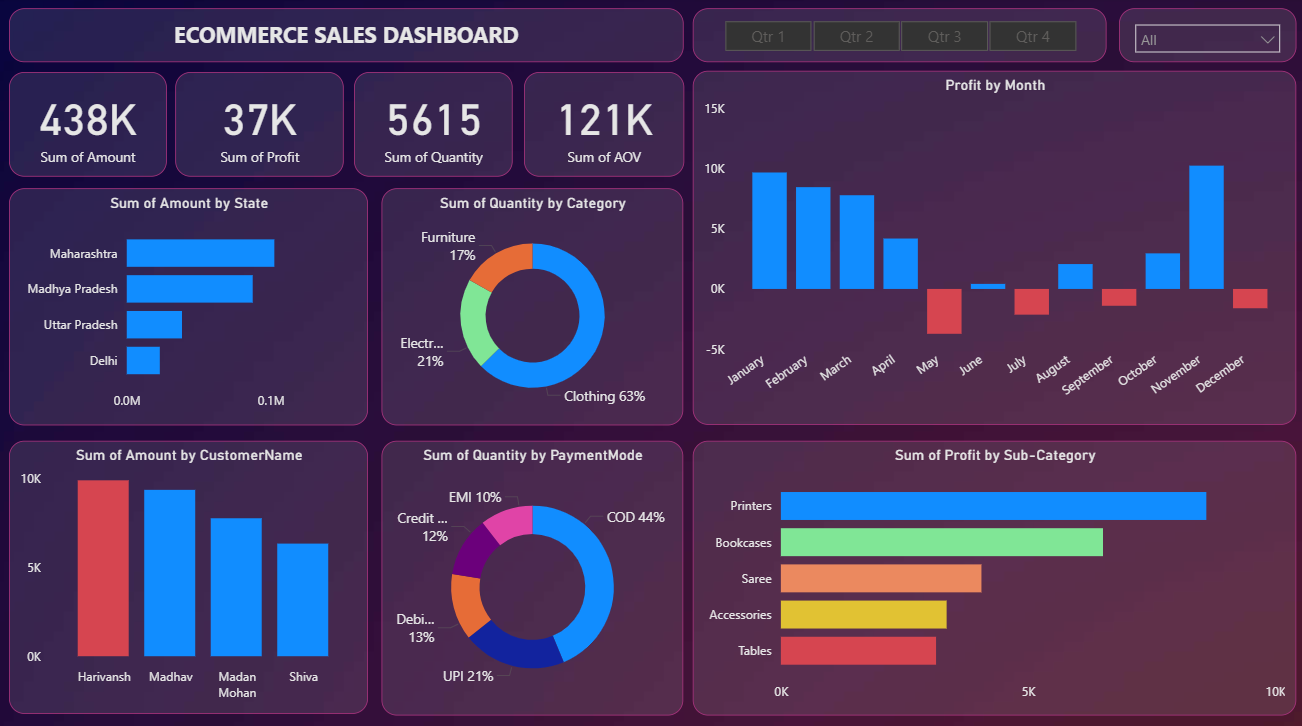

Layout of this report page (visuals, bound fields, positions):
{"tool":"powerbi","page":{"name":"Page 1","canvas":[1280,720],"ordinal":0},"visuals":[{"type":"textbox","box":[9.8,11,660.3,52.6],"z":0},{"type":"columnChart","title":"Profit by Month","fields":{"Category":["Orders.Order Date.Variation.Date Hierarchy.Month"],"Y":["Sum(Details.Profit)"]},"box":[678.7,72.1,590.6,346.1],"z":1000},{"type":"barChart","fields":{"Category":["Details.Sub-Category"],"Y":["Sum(Details.Profit)"]},"box":[678.7,434.1,590.6,269],"z":2000},{"type":"donutChart","fields":{"Category":["Details.Category"],"Y":["Sum(Details.Quantity)"]},"box":[374.6,186.6,295,231.9],"z":3000},{"type":"donutChart","fields":{"Y":["Sum(Details.Quantity)"],"Category":["Details.PaymentMode"]},"box":[374.6,433.6,295,269],"z":4000},{"type":"card","fields":{"Values":["Sum(Details.Amount)"]},"box":[9.8,73.4,154.1,102.7],"z":5000},{"type":"card","fields":{"Values":["Sum(Details.Profit)"]},"box":[172.4,73.4,165.1,102.7],"z":6000},{"type":"card","fields":{"Values":["Sum(Details.Quantity)"]},"box":[347.3,73.4,155.3,102.7],"z":7000},{"type":"card","fields":{"Values":["Sum(Details.AOV)"]},"box":[513.6,73.4,156.5,102.7],"z":8000},{"type":"barChart","fields":{"Category":["Orders.State"],"Y":["Sum(Details.Amount)"]},"box":[9.6,186.6,351.3,231.9],"z":9000},{"type":"columnChart","fields":{"Category":["Orders.CustomerName"],"Y":["Sum(Details.Amount)"]},"box":[9.6,433.6,351.3,267.6],"z":10000},{"type":"slicer","fields":{"Values":["Orders.Order Date.Variation.Date Hierarchy.Quarter"]},"box":[678.7,11,404.8,52.6],"z":11000},{"type":"slicer","fields":{"Values":["Orders.State"]},"box":[1095.7,11,173.6,52.6],"z":12000}]}

Visuals, with their boxes in screenshot pixels (x1, y1, x2, y2), scaled from the page's 1280x720 canvas onto the 1302x726 screenshot:
textbox: [10,11,682,64]
"Profit by Month" columnChart: [690,73,1291,422]
barChart - Details.Sub-Category x Sum(Details.Profit): [690,438,1291,709]
donutChart - Details.Category x Sum(Details.Quantity): [381,188,681,422]
donutChart - Sum(Details.Quantity) x Details.PaymentMode: [381,437,681,708]
card - Sum(Details.Amount): [10,74,167,178]
card - Sum(Details.Profit): [175,74,343,178]
card - Sum(Details.Quantity): [353,74,511,178]
card - Sum(Details.AOV): [522,74,682,178]
barChart - Orders.State x Sum(Details.Amount): [10,188,367,422]
columnChart - Orders.CustomerName x Sum(Details.Amount): [10,437,367,707]
slicer - Orders.Order Date.Variation.Date Hierarchy.Quarter: [690,11,1102,64]
slicer - Orders.State: [1115,11,1291,64]
